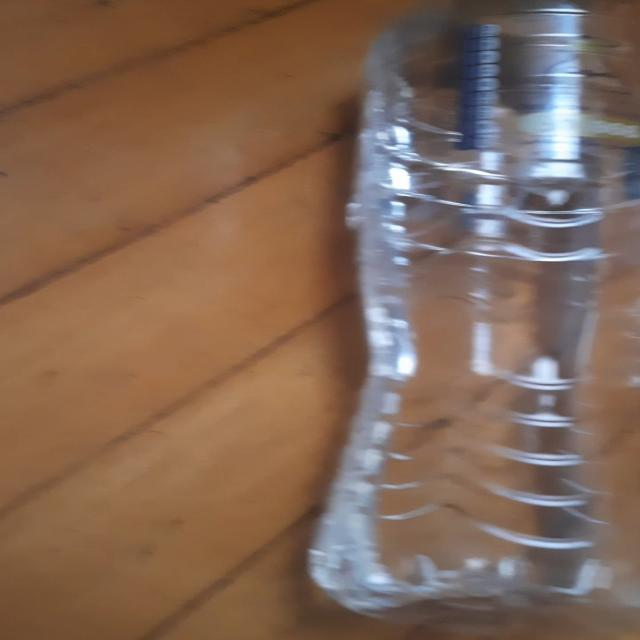Plastic: (304, 0, 640, 640)
